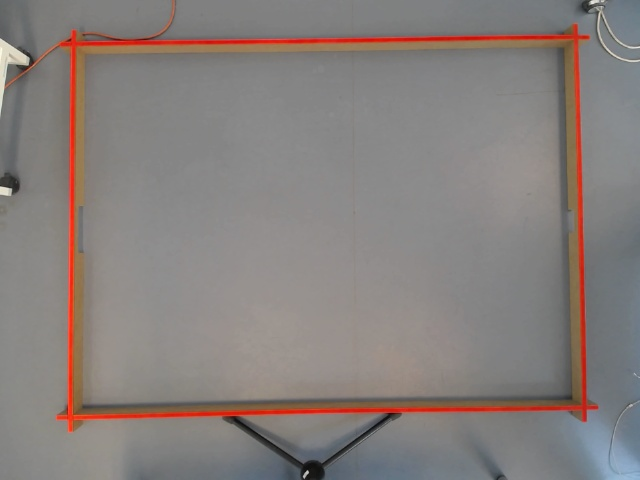big_goal: (70, 204, 86, 254)
small_goal: (564, 207, 582, 231)
wall: (56, 392, 598, 429), (555, 23, 596, 423), (59, 32, 591, 57), (64, 27, 86, 435)
